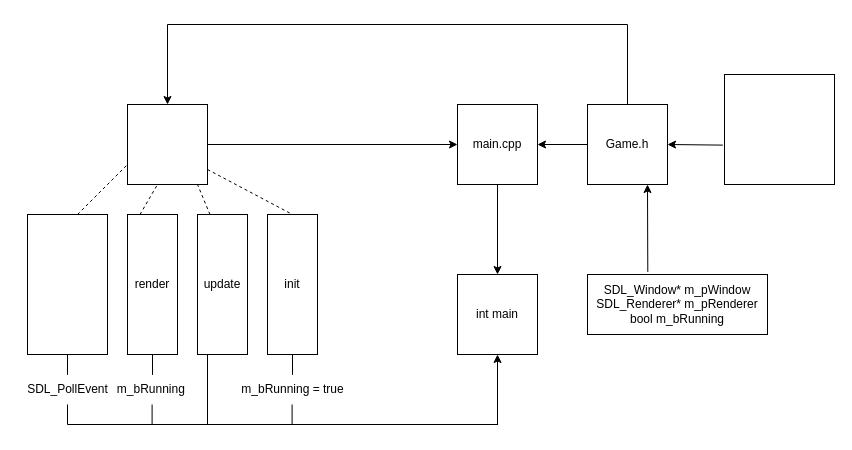
Some shapes in this 852 by 450 pixel diagram are drawn without their labels. Here are the shapes that lost their labels. From the top down, the centre of each, then its label:
At point 167,144: "Game.cpp".
At point 779,129: "bool init void render void update bool running void handleEvents void clean".
At point 67,284: "handleEvent".
